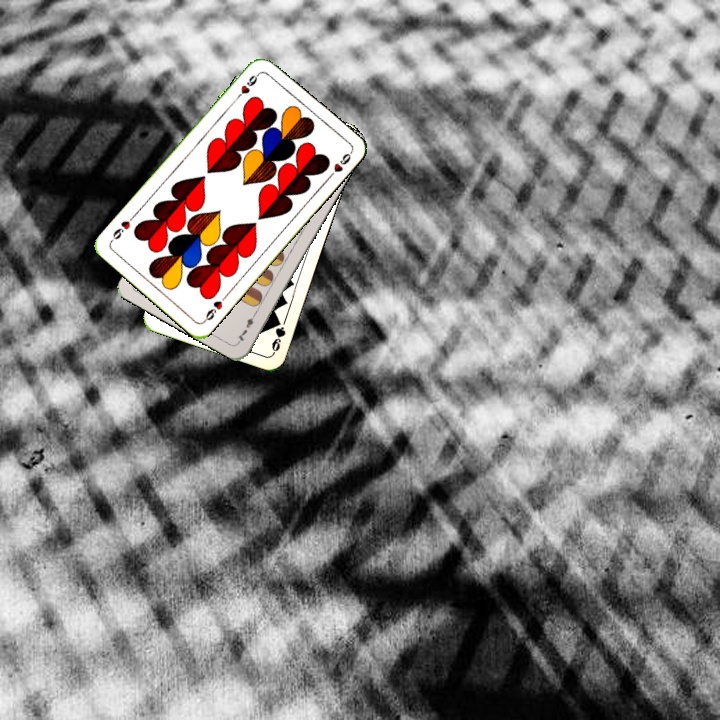E7: (233, 308, 259, 345)
G9: (267, 314, 288, 356)
H9: (231, 69, 262, 103), (199, 291, 229, 325)
